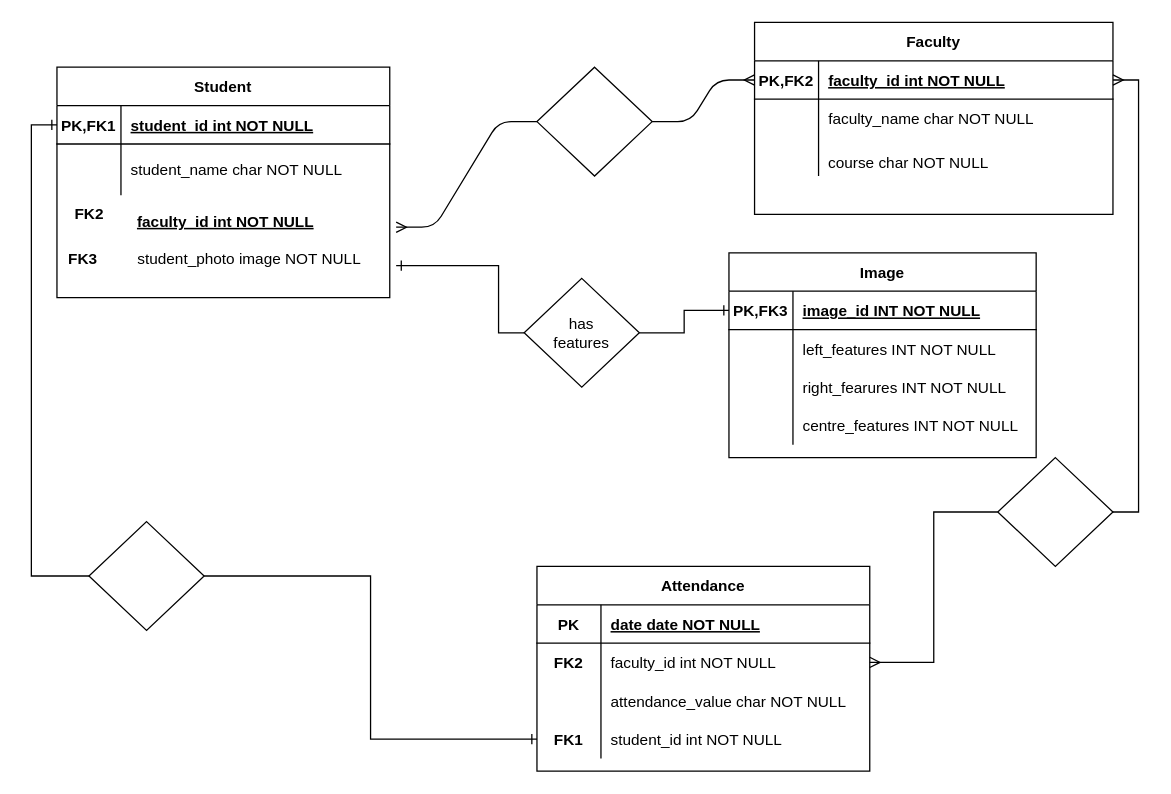
The diagram is 1171 pixels wide and 794 high, and some of its shapes have lost their labels. The box of each missing label's shape, as (x1, y1, x2, y2) in pixels:
attendance is taken by: (536, 66, 652, 176)
has attendance: (88, 520, 204, 630)
views attendance: (996, 456, 1113, 566)
